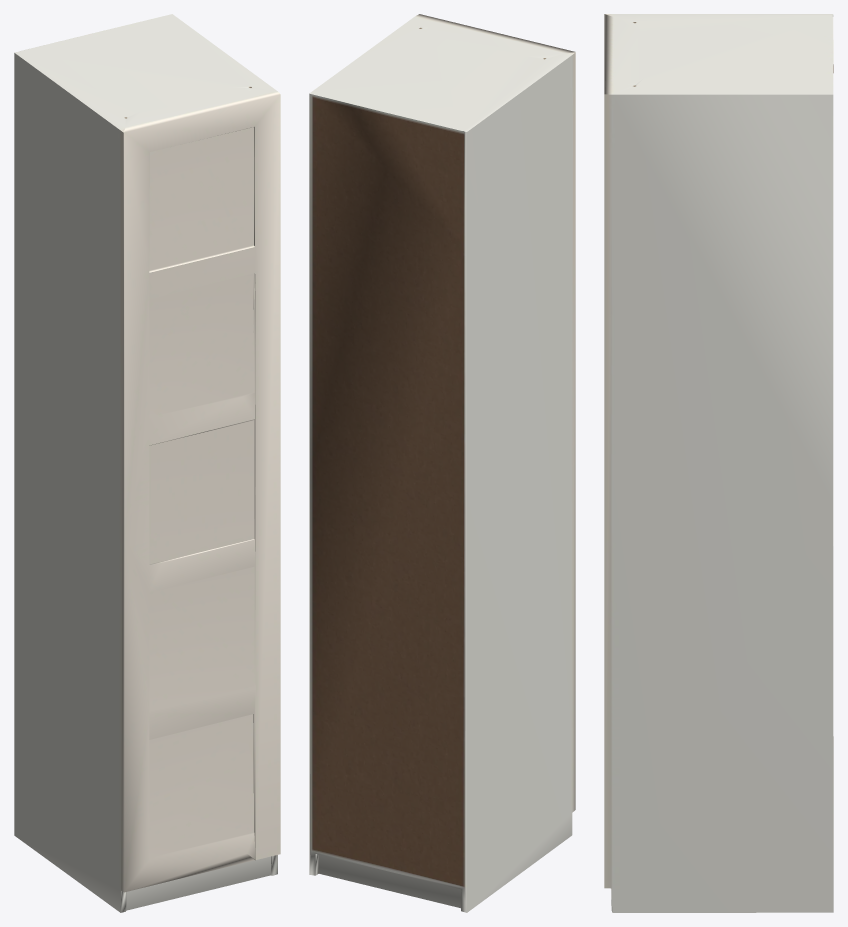
Rendered from pax_bergsbo_szafa_i_drzwi_29904630.glb.
3 renders of one model, left to right at view 1: azimuth 30°, elevation 25°; view 2: azimuth 150°, elevation 25°; view 3: azimuth 270°, elevation 25°, orthographic. The views are drawn at different scales.
Parts seen in each view (by area): view 1: pax_bergsbo_szafa_i_drzwi_29904630; view 2: pax_bergsbo_szafa_i_drzwi_29904630; view 3: pax_bergsbo_szafa_i_drzwi_29904630.
Part boxes in pixels (left/top/right/bottom): pax_bergsbo_szafa_i_drzwi_29904630: left=14, top=14, right=280, bottom=912; pax_bergsbo_szafa_i_drzwi_29904630: left=309, top=14, right=575, bottom=912; pax_bergsbo_szafa_i_drzwi_29904630: left=604, top=14, right=833, bottom=912.
Bounding box in the file's own units: 0.4998 × 2.36 × 0.6009.
Materials: 1 (1 with a texture image).
